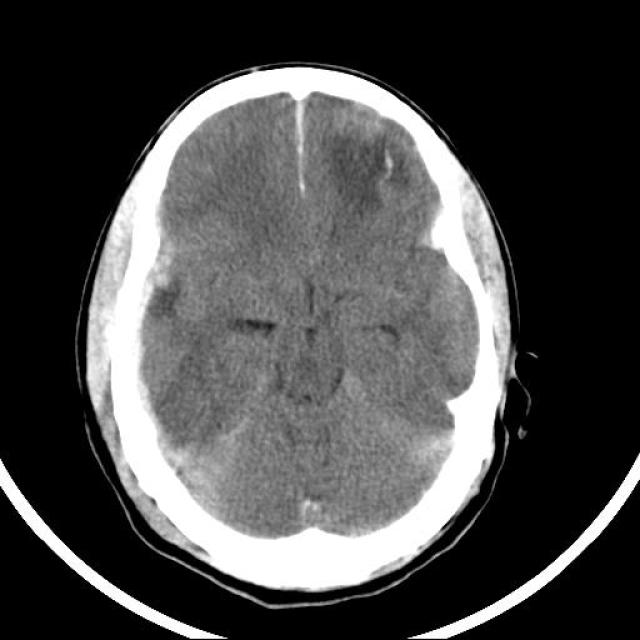Subdural: (116, 212, 189, 483)
